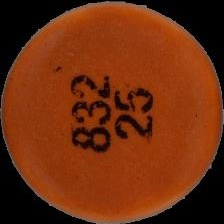51079-519: (0, 0, 224, 224)
